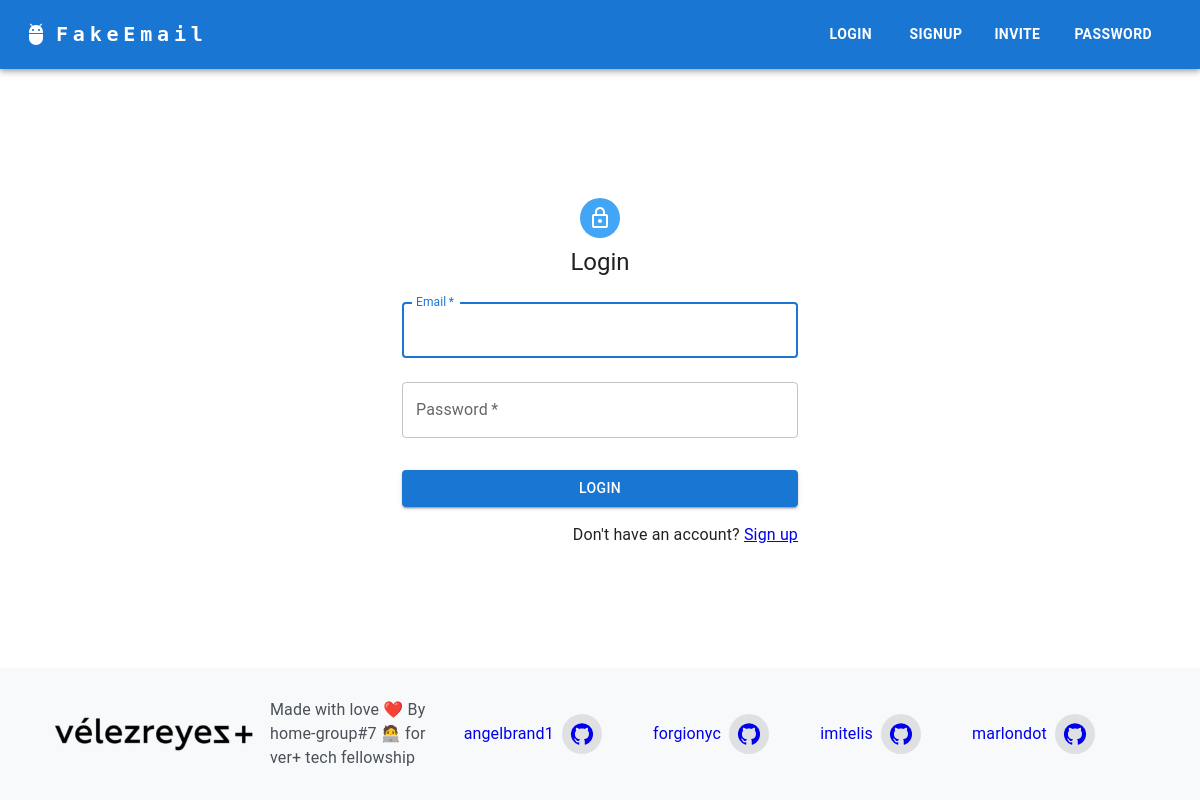
Scenario: Login tests › displays error message for invalid email
The image size is (1200, 800).
Type "invalidemail" into the field named "email" at (600, 330), box [402,302,798,358]
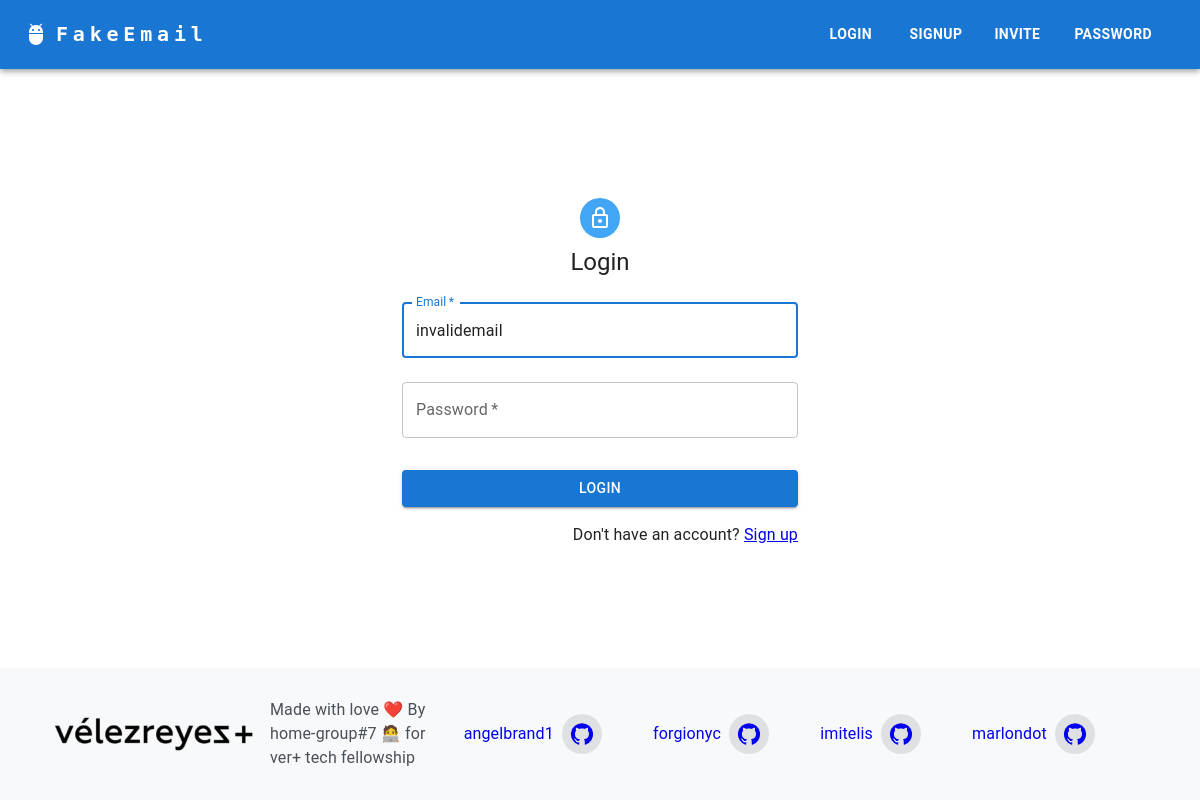
Type "validpassword" into the password field named "password" at (600, 410), box [402,382,798,438]
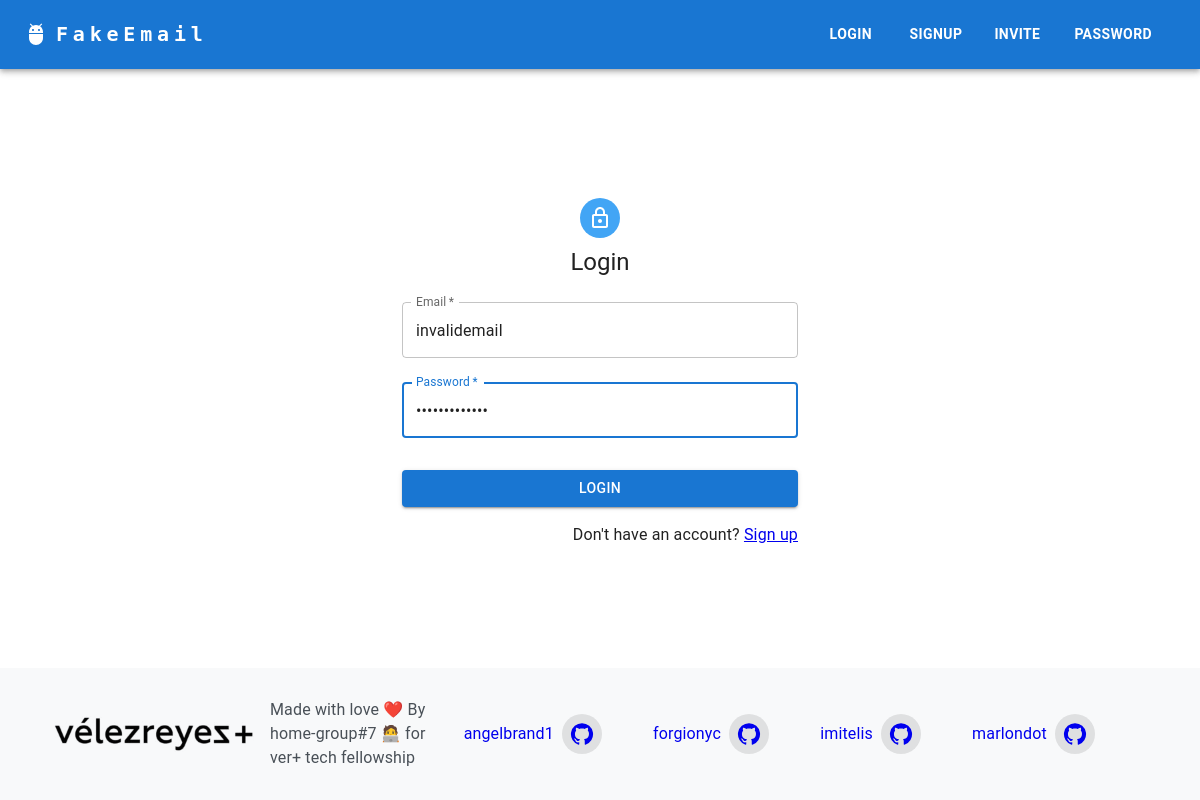
Click the button with id "loginButton" at (600, 489), box [402,470,798,507]
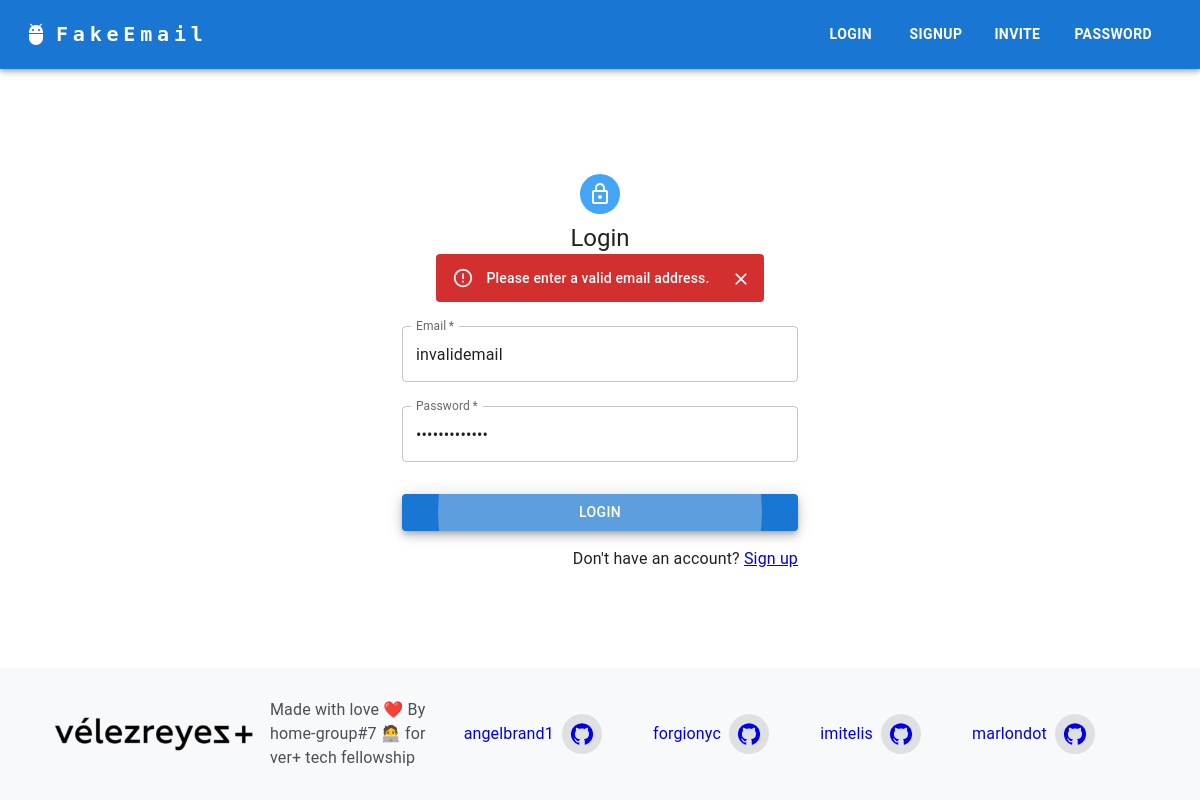
Expected: the text "Please enter a valid email address." is shown, [486,270,710,286]
